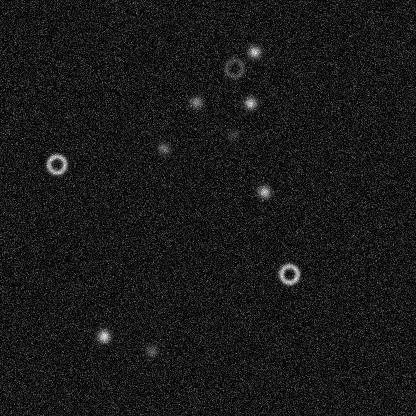Ring: (44, 152, 68, 176), (277, 261, 301, 285), (222, 56, 246, 80)
Spot: (246, 43, 262, 59), (155, 140, 171, 156), (224, 126, 240, 142), (188, 94, 204, 110), (143, 343, 159, 359), (242, 94, 258, 110), (256, 183, 272, 199), (95, 328, 111, 344)
